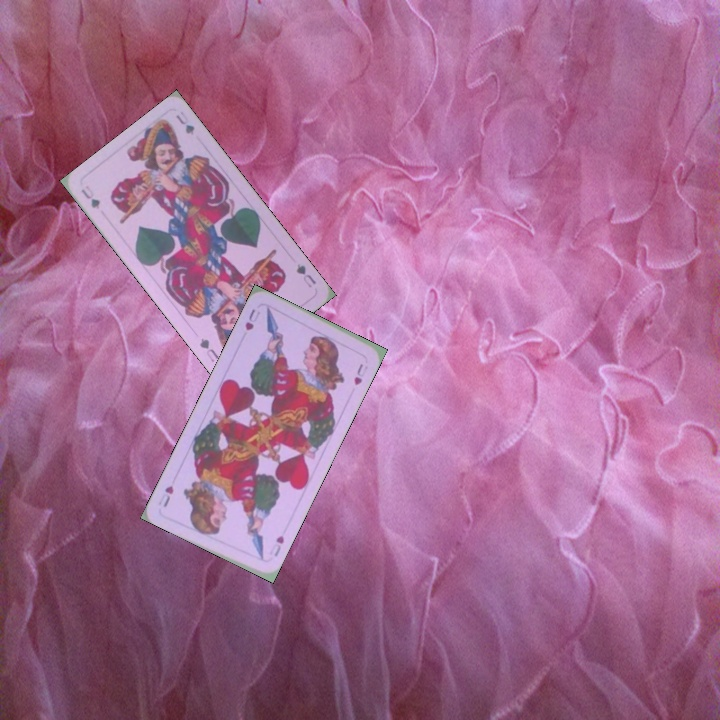GU: (292, 259, 319, 290), (77, 181, 103, 212)
HU: (262, 531, 287, 559), (241, 305, 263, 333)
